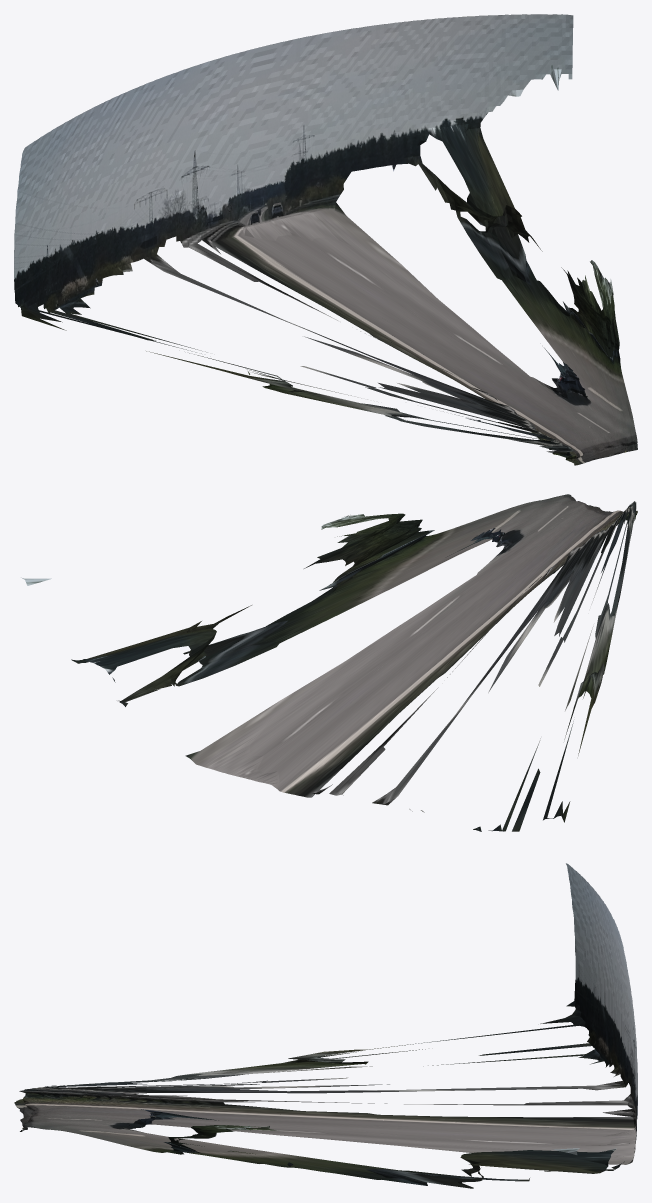
3 views of the same model, one above another, from view 1: azimuth 30°, elevation 25°; view 2: azimuth 150°, elevation 25°; view 3: azimuth 270°, elevation 25° (orthographic). The views are drawn at different scales.
Parts seen in each view (by area): view 1: defaultobject; view 2: defaultobject; view 3: defaultobject.
Part boxes in pixels (box(x1,y1,x2,y2)): defaultobject: box(14, 14, 637, 465); defaultobject: box(21, 494, 637, 831); defaultobject: box(14, 863, 637, 1188).
Size of the model in its own units: 41.08 by 14.11 by 44.69.
Materials: 1 (1 with a texture image).
